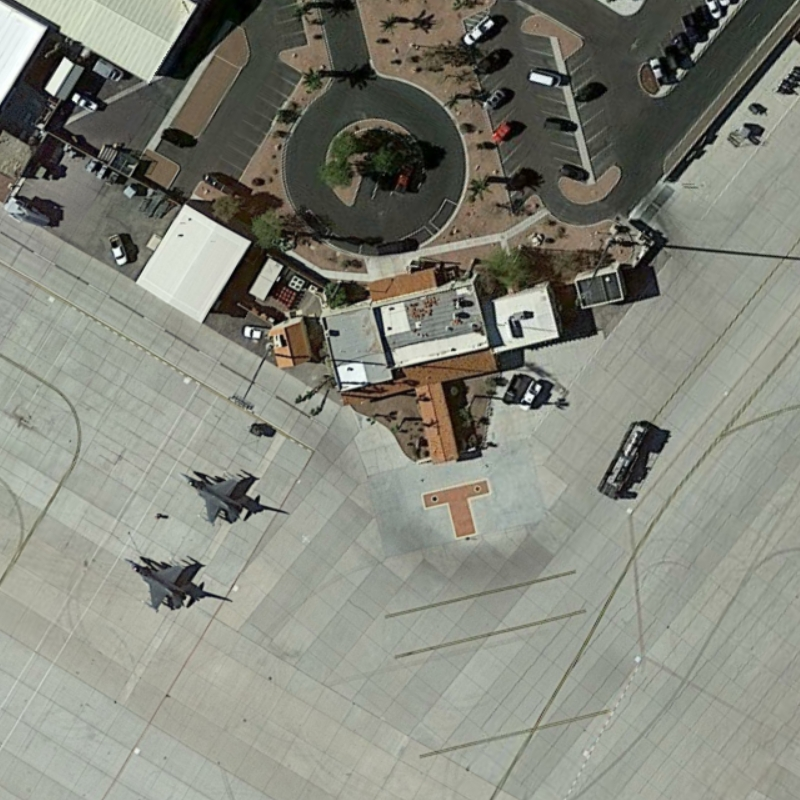A5: (118, 546, 201, 614), (176, 464, 253, 526)
